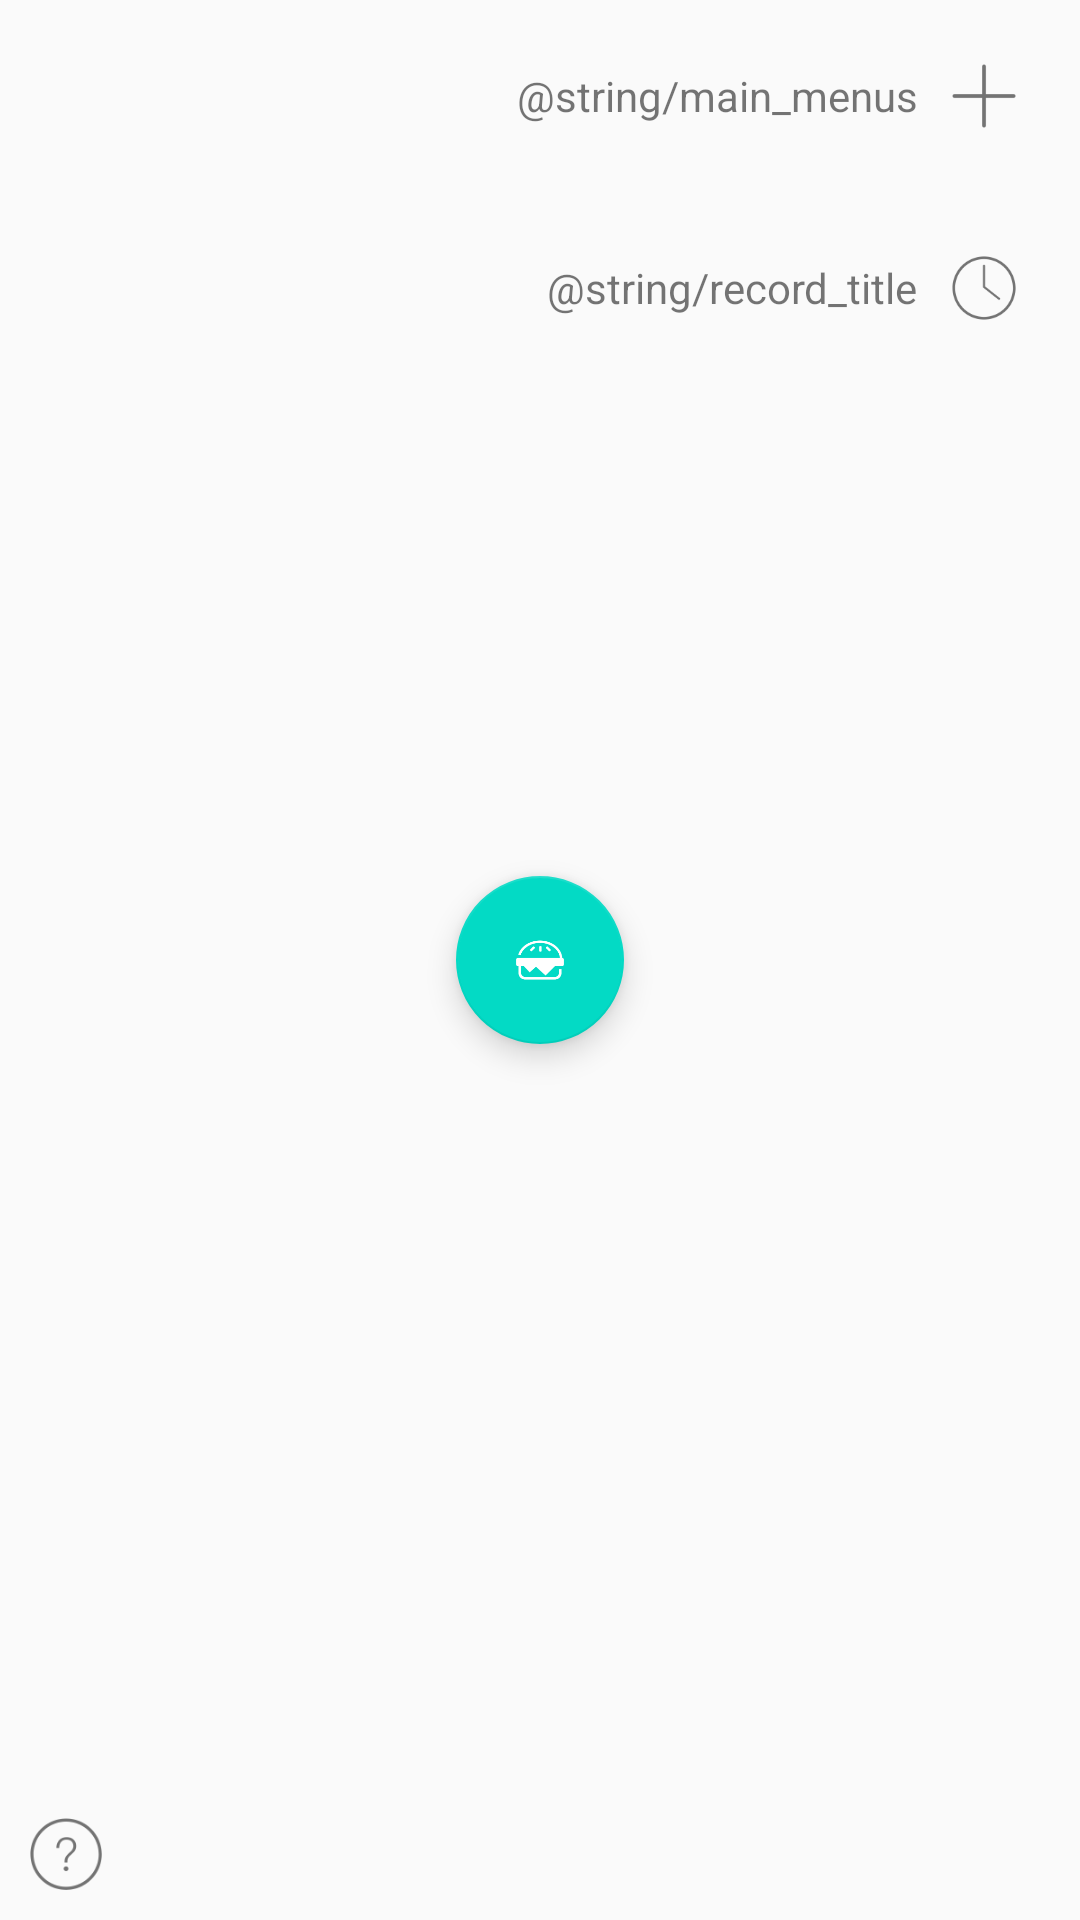

Icons on this 1080w x 1920h Android screen, each with the point to tap as (x,y):
about: (66,1854)
eat: (540,963)
